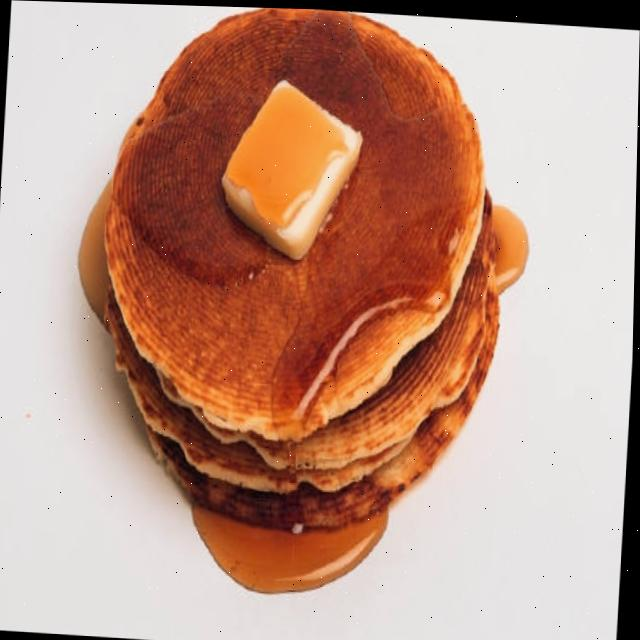蛋糕甜品: (0, 0, 563, 640)
